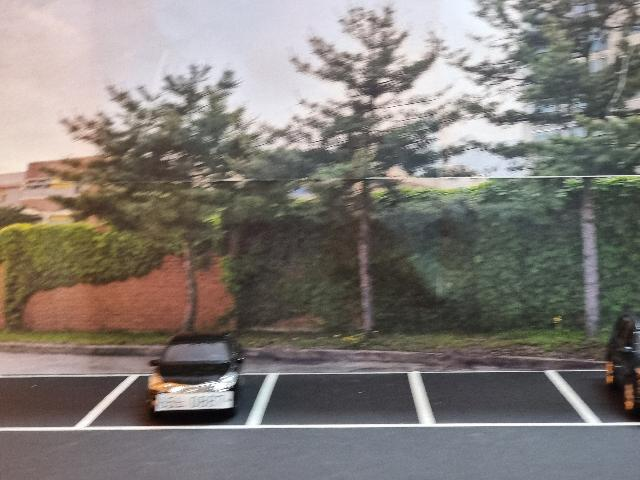empty: (422, 365, 602, 429), (250, 369, 430, 431), (0, 369, 136, 433)
occupied: (143, 336, 253, 433)
